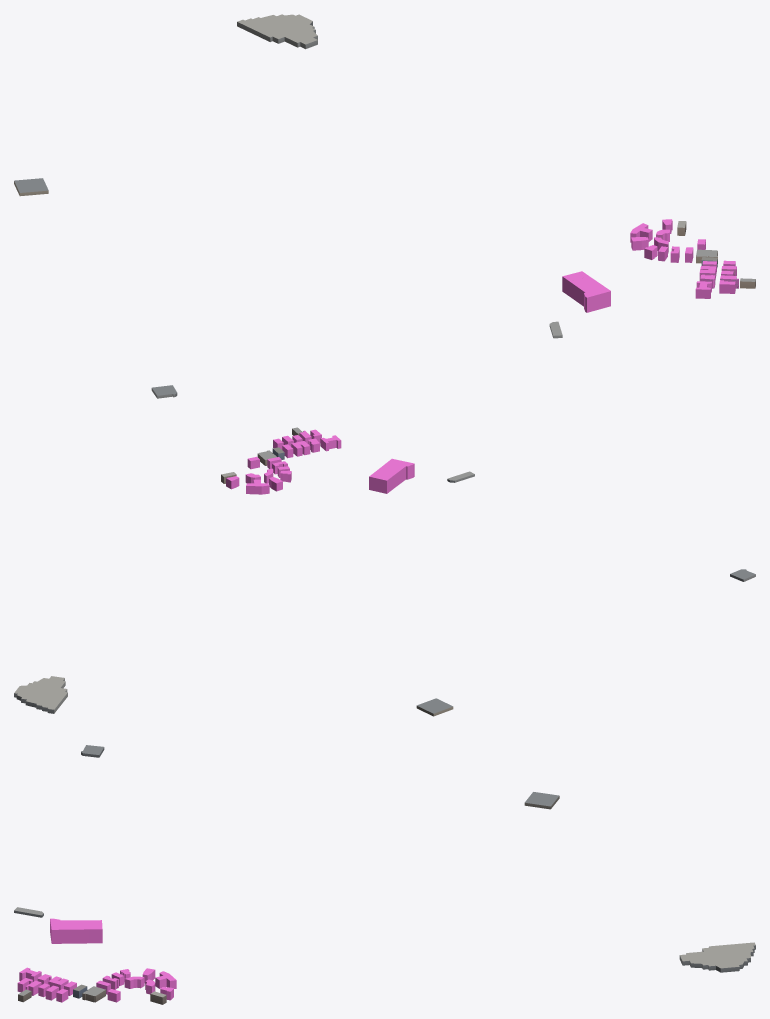
Rendered from bld_18_9.fbx.
3 renders of one model, top to bottom at view 1: azimuth 30°, elevation 25°; view 2: azimuth 150°, elevation 25°; view 3: azimuth 270°, elevation 25°, orthographic. The views are drawn at different scales.
Visible parts, largest first — view 1: bld_18_9_COL, bld_18_9_LOD0; view 2: bld_18_9_COL, bld_18_9_LOD0; view 3: bld_18_9_COL, bld_18_9_LOD0.
Part boxes in pixels (x1=…): bld_18_9_COL: x1=562, y1=219, x2=738, y2=312; bld_18_9_LOD0: x1=14, y1=14, x2=755, y2=398; bld_18_9_COL: x1=226, y1=429, x2=414, y2=494; bld_18_9_LOD0: x1=14, y1=427, x2=755, y2=716; bld_18_9_COL: x1=17, y1=918, x2=176, y2=1002; bld_18_9_LOD0: x1=14, y1=745, x2=755, y2=1004.
Size of what is drawn, in the model's own units: 1722 by 43.87 by 2098.
